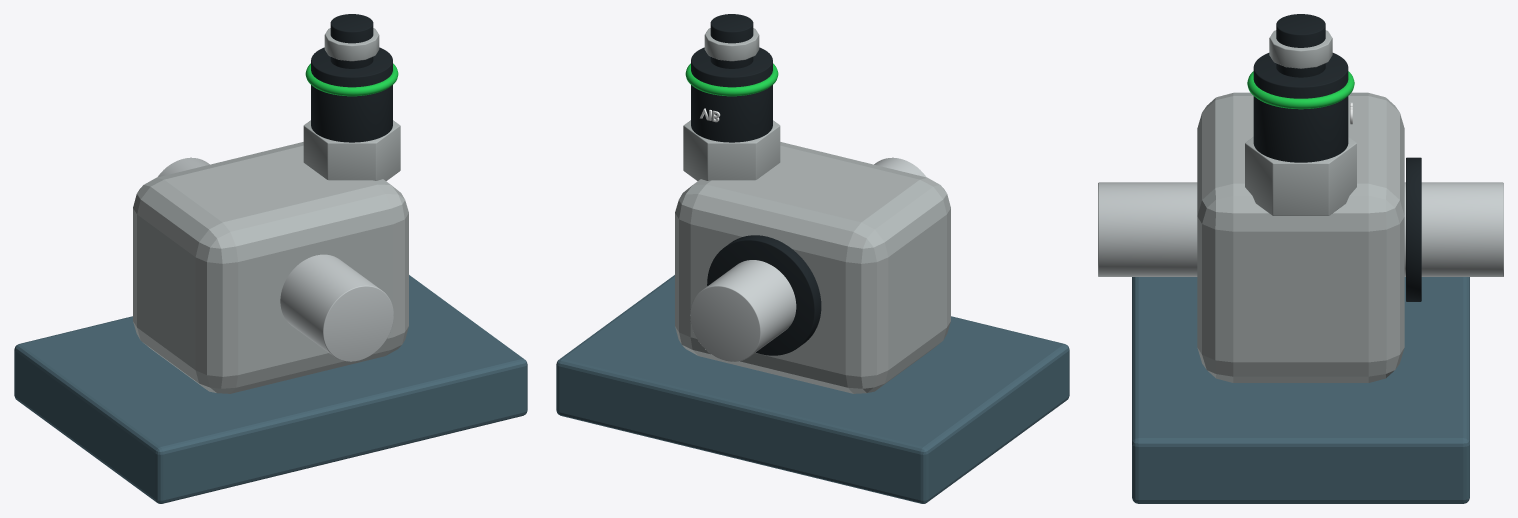
Rendered from zone_handoff_sensor.glb.
3 views of the same model, side by side, from view 1: azimuth 30°, elevation 25°; view 2: azimuth 150°, elevation 25°; view 3: azimuth 270°, elevation 25° (orthographic). The views are drawn at different scales.
Parts seen in each view (by area): view 1: BEARING_base, PILLOW_BLOCK, MACHINE_shaft, SENSOR_body, SENSOR_wrench_base, M12_body, M12_nut, SENSOR_status_ring; view 2: BEARING_base, PILLOW_BLOCK, MACHINE_shaft, SENSOR_body, BEARING_bore, SENSOR_wrench_base, M12_body, M12_nut, SENSOR_status_ring; view 3: BEARING_base, PILLOW_BLOCK, MACHINE_shaft, SENSOR_body, SENSOR_wrench_base, BEARING_bore, M12_body, M12_nut, SENSOR_status_ring.
Boxes of the visible parts, x1,y1,x2,y2 form: BEARING_base: (14,275,527,503); PILLOW_BLOCK: (133,142,408,393); MACHINE_shaft: (157,157,393,361); SENSOR_body: (311,47,392,142); SENSOR_wrench_base: (303,120,400,180); M12_body: (330,14,373,68); M12_nut: (324,28,379,61); SENSOR_status_ring: (305,63,398,96); BEARING_base: (556,275,1069,503); PILLOW_BLOCK: (675,142,950,393); MACHINE_shaft: (690,157,926,361); SENSOR_body: (691,47,772,142); BEARING_bore: (707,235,821,355); SENSOR_wrench_base: (683,120,780,180); M12_body: (710,14,753,68); M12_nut: (704,28,759,61); SENSOR_status_ring: (685,63,778,96); BEARING_base: (1132,277,1469,503); PILLOW_BLOCK: (1197,92,1404,382); MACHINE_shaft: (1098,182,1503,276); SENSOR_body: (1253,53,1348,162); SENSOR_wrench_base: (1245,137,1356,215); BEARING_bore: (1406,157,1421,301); M12_body: (1276,14,1325,77); M12_nut: (1269,30,1332,68); SENSOR_status_ring: (1247,71,1354,109).
Size of the model in its own units: 1.1 by 1.04 by 0.9.
